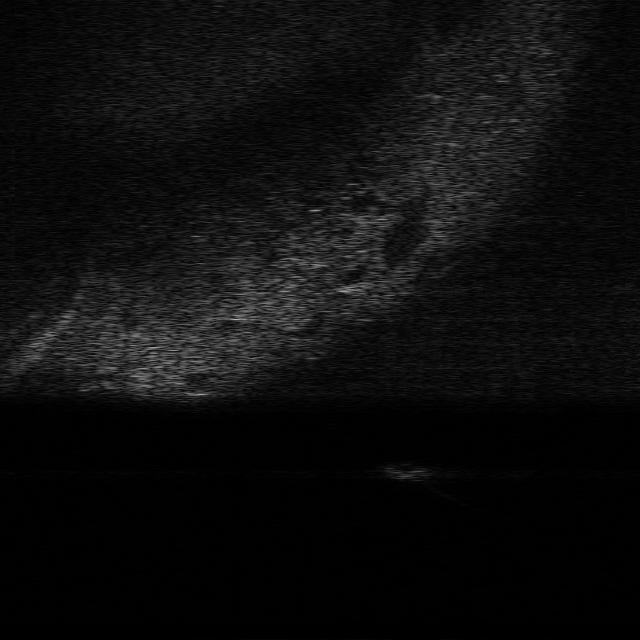cube: (384, 459, 431, 479)
